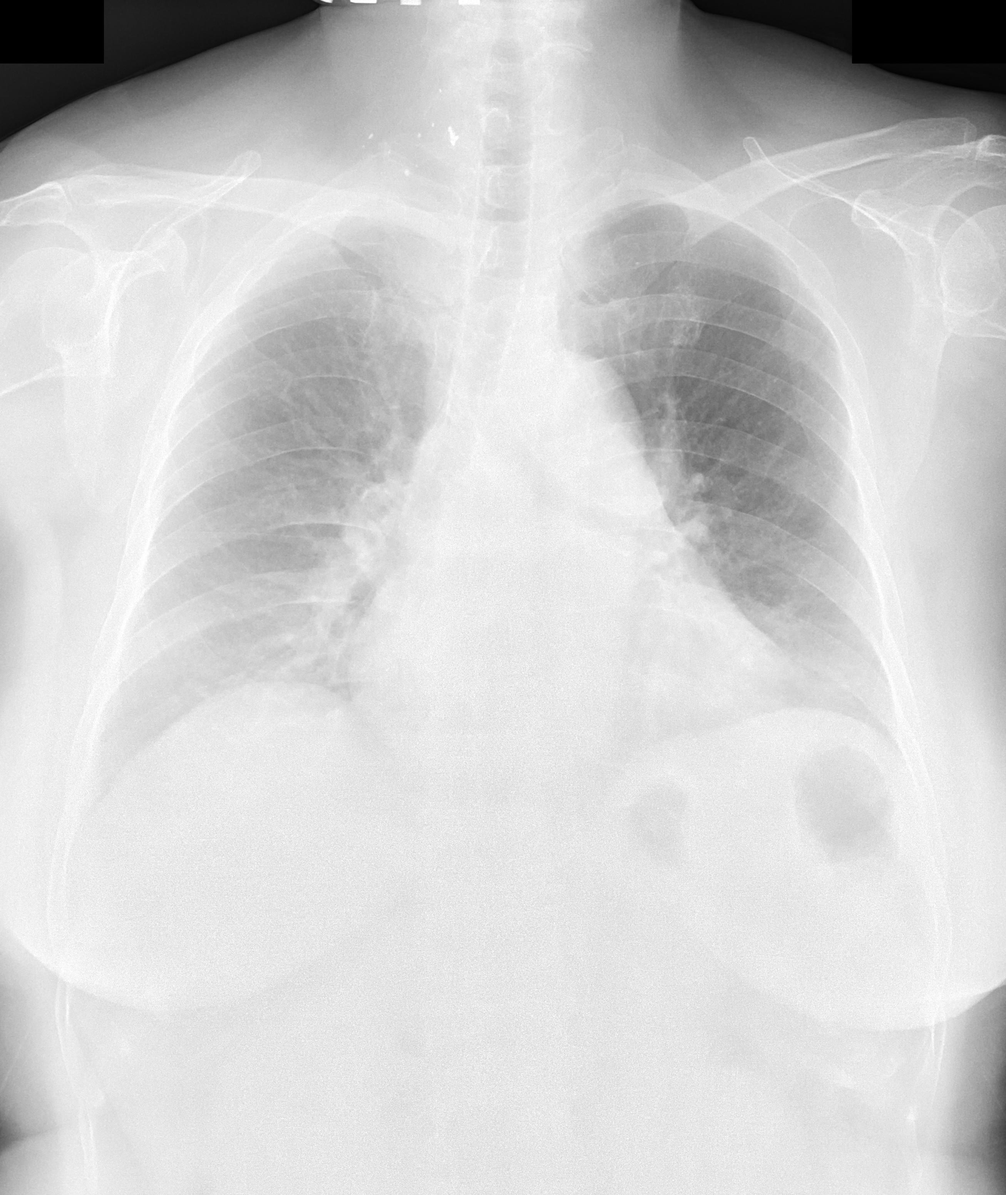Aortic enlargement: (499, 344, 648, 505)
Cardiomegaly: (342, 610, 829, 769)
